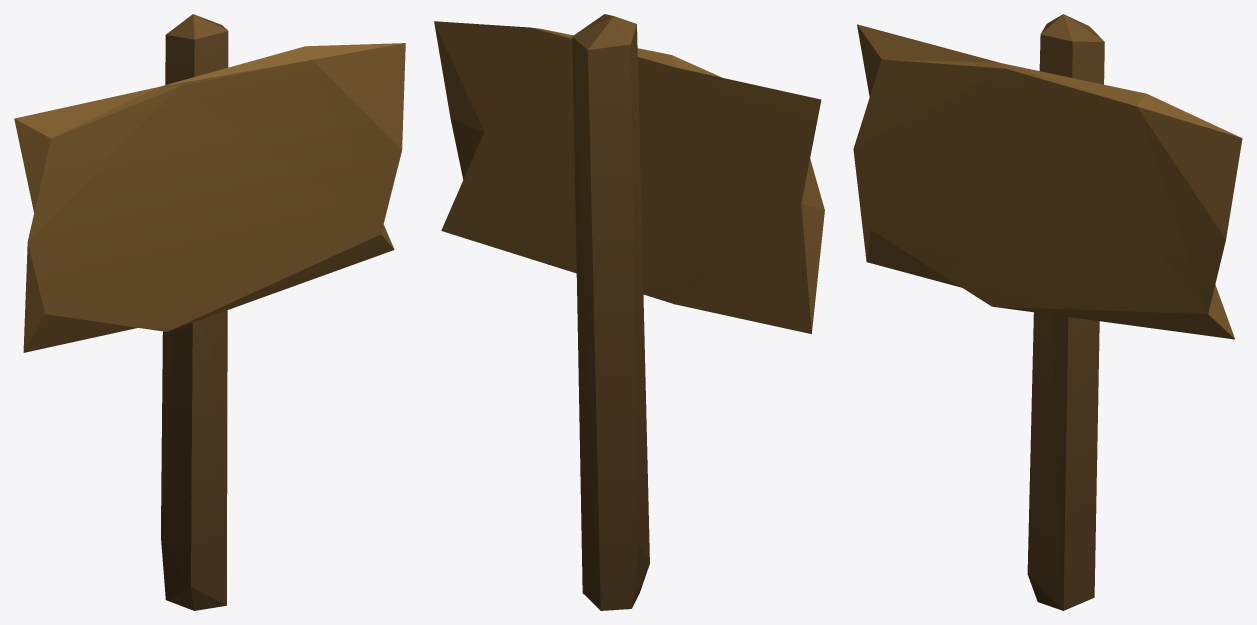
File: Pointer_01.fbx
The picture shows the model from 3 angles, left to right: view 1: azimuth 30°, elevation 25°; view 2: azimuth 150°, elevation 25°; view 3: azimuth 330°, elevation 25°; orthographic projection.
Visible parts, largest first — view 1: Pointer_01; view 2: Pointer_01; view 3: Pointer_01.
Part boxes in pixels (left/top/right/bottom): Pointer_01: left=14, top=14, right=405, bottom=610; Pointer_01: left=434, top=14, right=824, bottom=610; Pointer_01: left=853, top=14, right=1242, bottom=610.
Size of the model in its own units: 1.07 by 1.54 by 0.1931.
